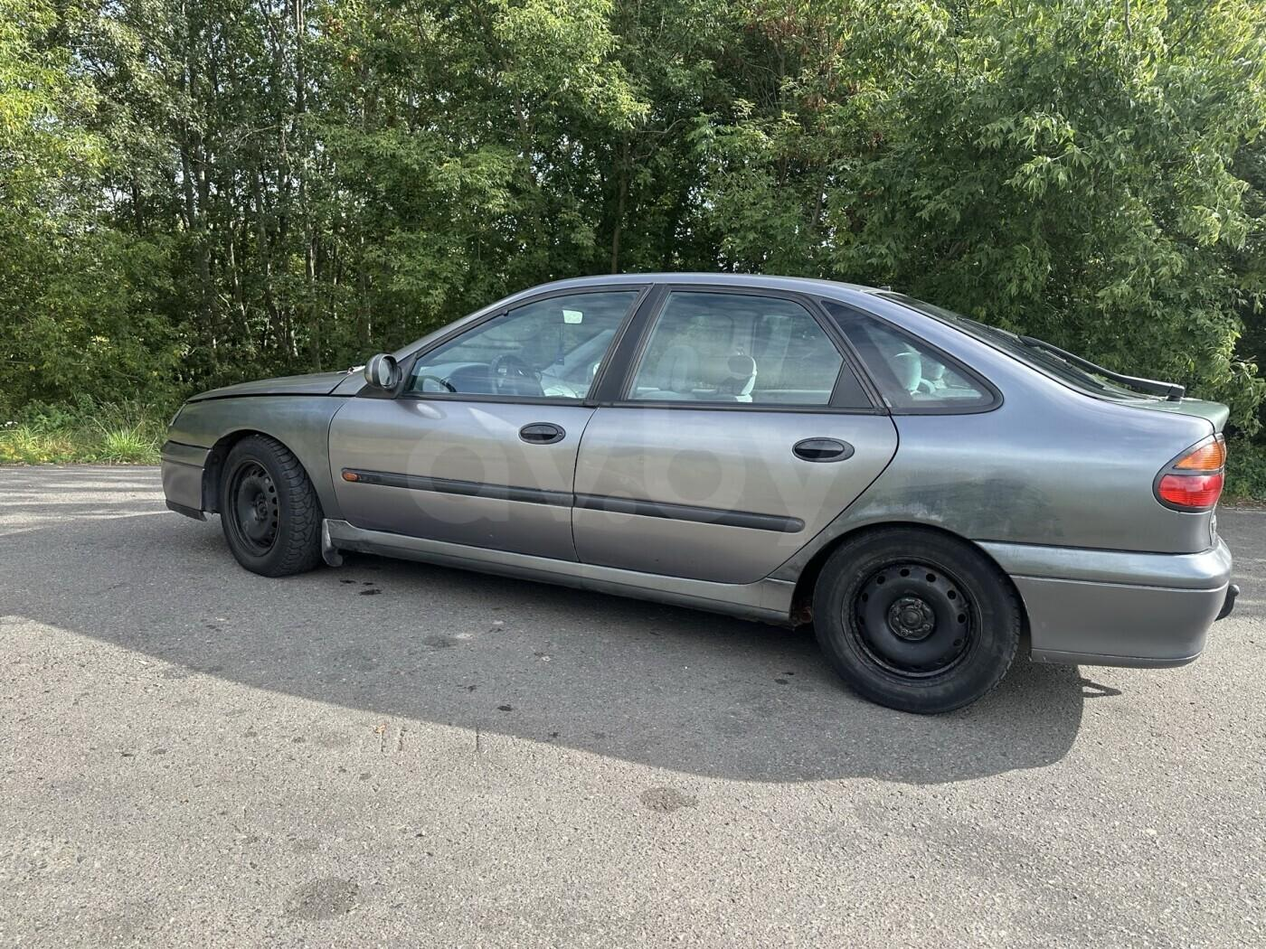Laguna_1998-2001: (155, 262, 1238, 723)
